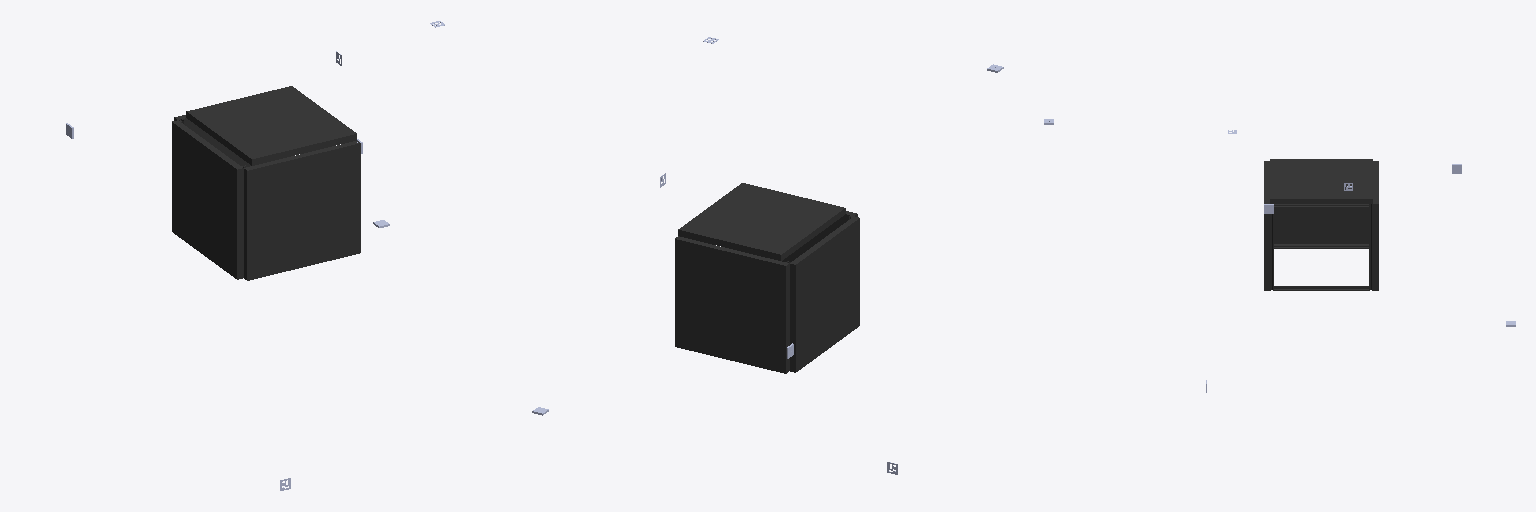
The robot description file, URDF, robot "docking_station":
<?xml version="1.0" encoding="utf-8"?>
<!-- This URDF was automatically created by SolidWorks to URDF Exporter! Originally created by [author] ([email redacted]) 
     Commit Version: 1.5.1-0-g916b5db  Build Version: 1.5.7152.31018
     For more information, please see http://wiki.ros.org/sw_urdf_exporter -->
<robot
  name="docking_station">
  <link
    name="base_link">
    <inertial>
      <origin
        xyz="-0.0662482989445942 -2.1538326677728E-14 0.316247385092928"
        rpy="0 0 0" />
      <mass
        value="42.0427517120607" />
      <inertia
        ixx="1.16820349201206"
        ixy="1.60891011987078E-14"
        ixz="-9.97046817820056E-15"
        iyy="1.38638221782354"
        iyz="-1.95937203163287E-15"
        izz="1.23918268038501" />
    </inertial>
    <visual>
      <origin
        xyz="0 0 0"
        rpy="0 0 0" />
      <geometry>
        <mesh
          filename="package://docking_station/meshes/base_link.STL" />
      </geometry>
      <material
        name="">
        <color
          rgba="0.250980392156863 0.250980392156863 0.250980392156863 1" />
      </material>
    </visual>
    <collision>
      <origin
        xyz="0 0 0"
        rpy="0 0 0" />
      <geometry>
        <mesh
          filename="package://docking_station/meshes/base_link.STL" />
      </geometry>
    </collision>
  </link>
  <link
    name="aruco_link_1">
    <inertial>
      <origin
        xyz="-0.0249999999999956 0.00450876489028063 0.0250000000000178"
        rpy="0 0 0" />
      <mass
        value="0.0224018252295753" />
      <inertia
        ixx="4.8386226510856E-06"
        ixy="-1.02520572049127E-20"
        ixz="-2.08851713726378E-21"
        iyy="9.37469320384243E-06"
        iyz="-7.06176572731722E-20"
        izz="4.83862265108562E-06" />
    </inertial>
    <visual>
      <origin
        xyz="0 0 0"
        rpy="0 0 0" />
      <geometry>
        <mesh
          filename="package://docking_station/meshes/aruco_link_1.STL" />
      </geometry>
      <material
        name="">
        <color
          rgba="0.792156862745098 0.819607843137255 0.933333333333333 1" />
      </material>
    </visual>
    <collision>
      <origin
        xyz="0 0 0"
        rpy="0 0 0" />
      <geometry>
        <mesh
          filename="package://docking_station/meshes/aruco_link_1.STL" />
      </geometry>
    </collision>
  </link>
  <joint
    name="aruco_joint_1"
    type="fixed">
    <origin
      xyz="0.27 -0.2505 0.45"
      rpy="1.5708 1.5708 0" />
    <parent
      link="base_link" />
    <child
      link="aruco_link_1" />
    <axis
      xyz="0 0 0" />
  </joint>
  <link
    name="aruco_child_link_1">
    <inertial>
      <origin
        xyz="−0.069 0.00450876489028063 0.0250000000000178"
        rpy="0 0 0" />
      <mass
        value="0.00197270562183948" />
      <inertia
        ixx="4.704387715955E-07"
        ixy="6.97071784979191E-21"
        ixz="-1.63089057186932E-08"
        iyy="9.16307642939266E-07"
        iyz="1.28429976701927E-21"
        izz="4.46197655614073E-07" />
    </inertial>
    <visual>
      <origin
        xyz="0 0 0"
        rpy="0 0 0" />
      <geometry>
        <mesh
          filename="package://docking_station/meshes/aruco_child_link_1.STL" />
      </geometry>
      <material
        name="">
        <color
          rgba="0.792156862745098 0.819607843137255 0.933333333333333 1" />
      </material>
    </visual>
    <collision>
      <origin
        xyz="0 0 0"
        rpy="0 0 0" />
      <geometry>
        <mesh
          filename="package://docking_station/meshes/aruco_child_link_1.STL" />
      </geometry>
    </collision>
  </link>
  <joint
    name="aruco_child_joint_1"
    type="fixed">
    <origin
      xyz="-0.025 0 0.025"
      rpy="0 -1.5708 0" />
    <parent
      link="aruco_link_1" />
    <child
      link="aruco_child_link_1" />
    <axis
      xyz="0 0 0" />
  </joint>
  <link
    name="aruco_link_2">
    <inertial>
      <origin
        xyz="-0.0250000000000042 0.00450876489026827 -0.0249999999999847"
        rpy="0 0 0" />
      <mass
        value="0.0224018252295753" />
      <inertia
        ixx="4.83862265108561E-06"
        ixy="-1.0107356355921E-20"
        ixz="3.32562002140032E-22"
        iyy="9.37469320384244E-06"
        iyz="7.05471563513824E-20"
        izz="4.83862265108562E-06" />
    </inertial>
    <visual>
      <origin
        xyz="0 0 0"
        rpy="0 0 0" />
      <geometry>
        <mesh
          filename="package://docking_station/meshes/aruco_link_2.STL" />
      </geometry>
      <material
        name="">
        <color
          rgba="0.792156862745098 0.819607843137255 0.933333333333333 1" />
      </material>
    </visual>
    <collision>
      <origin
        xyz="0 0 0"
        rpy="0 0 0" />
      <geometry>
        <mesh
          filename="package://docking_station/meshes/aruco_link_2.STL" />
      </geometry>
    </collision>
  </link>
  <joint
    name="aruco_joint_2"
    type="fixed">
    <origin
      xyz="0.27 0.2505 0.45"
      rpy="1.5708 1.5708 0" />
    <parent
      link="base_link" />
    <child
      link="aruco_link_2" />
    <axis
      xyz="0 0 0" />
  </joint>
  <link
    name="aruco_child_link_2">
    <inertial>
      <origin
        xyz="-0.000278731373129198 -0.00950000000004067 1.62549688293989E-05"
        rpy="0 0 0" />
      <mass
        value="0.00197270562183948" />
      <inertia
        ixx="4.70438771595498E-07"
        ixy="-5.86722248136008E-21"
        ixz="-1.63089057186943E-08"
        iyy="9.16307642939267E-07"
        iyz="3.0016255749312E-20"
        izz="4.46197655614075E-07" />
    </inertial>
    <visual>
      <origin
        xyz="0 0 0"
        rpy="0 0 0" />
      <geometry>
        <mesh
          filename="package://docking_station/meshes/aruco_child_link_2.STL" />
      </geometry>
      <material
        name="">
        <color
          rgba="0.792156862745098 0.819607843137255 0.933333333333333 1" />
      </material>
    </visual>
    <collision>
      <origin
        xyz="0 0 0"
        rpy="0 0 0" />
      <geometry>
        <mesh
          filename="package://docking_station/meshes/aruco_child_link_2.STL" />
      </geometry>
    </collision>
  </link>
  <joint
    name="aruco_child_joint_1"
    type="fixed">
    <origin
      xyz="-0.025 0.019 -0.025"
      rpy="0 1.5708 0" />
    <parent
      link="aruco_link_2" />
    <child
      link="aruco_child_link_2" />
    <axis
      xyz="0 0 0" />
  </joint>
  <link
    name="aruco_link_3">
    <inertial>
      <origin
        xyz="0.0250000000000017 0.00450876489026816 -0.024999999999987"
        rpy="0 0 0" />
      <mass
        value="0.0224018252295754" />
      <inertia
        ixx="4.83862265108561E-06"
        ixy="2.35103530730933E-21"
        ixz="4.18902260497304E-22"
        iyy="9.37469320384244E-06"
        iyz="2.01390055538253E-20"
        izz="4.83862265108562E-06" />
    </inertial>
    <visual>
      <origin
        xyz="0 0 0"
        rpy="0 0 0" />
      <geometry>
        <mesh
          filename="package://docking_station/meshes/aruco_link_3.STL" />
      </geometry>
      <material
        name="">
        <color
          rgba="0.792156862745098 0.819607843137255 0.933333333333333 1" />
      </material>
    </visual>
    <collision>
      <origin
        xyz="0 0 0"
        rpy="0 0 0" />
      <geometry>
        <mesh
          filename="package://docking_station/meshes/aruco_link_3.STL" />
      </geometry>
    </collision>
  </link>
  <joint
    name="aruco_joint_3"
    type="fixed">
    <origin
      xyz="0.27 -0.2505 0"
      rpy="1.5708 -1.5708 0" />
    <parent
      link="base_link" />
    <child
      link="aruco_link_3" />
    <axis
      xyz="0 0 0" />
  </joint>
  <link
    name="aruco_child_link_3">
    <inertial>
      <origin
        xyz="-0.000278731442023394 0.00949999999798451 -1.62549651961663E-05"
        rpy="0 0 0" />
      <mass
        value="0.00197270562183948" />
      <inertia
        ixx="4.70438772020475E-07"
        ixy="-3.22414238087603E-15"
        ixz="1.63089054028558E-08"
        iyy="9.16307642939263E-07"
        iyz="1.17934969875605E-16"
        izz="4.46197655189094E-07" />
    </inertial>
    <visual>
      <origin
        xyz="0 0 0"
        rpy="0 0 0" />
      <geometry>
        <mesh
          filename="package://docking_station/meshes/aruco_child_link_3.STL" />
      </geometry>
      <material
        name="">
        <color
          rgba="0.792156862745098 0.819607843137255 0.933333333333333 1" />
      </material>
    </visual>
    <collision>
      <origin
        xyz="0 0 0"
        rpy="0 0 0" />
      <geometry>
        <mesh
          filename="package://docking_station/meshes/aruco_child_link_3.STL" />
      </geometry>
    </collision>
  </link>
  <joint
    name="aruco_child_joint_3"
    type="fixed">
    <origin
      xyz="0.025 0.019 -0.025"
      rpy="-0.50668 1.5708 2.6349" />
    <parent
      link="aruco_link_3" />
    <child
      link="aruco_child_link_3" />
    <axis
      xyz="0 0 0" />
  </joint>
  <link
    name="aruco_link_4">
    <inertial>
      <origin
        xyz="0.0249999999999951 0.00450876489026805 0.024999999999988"
        rpy="0 0 0" />
      <mass
        value="0.0224018252295753" />
      <inertia
        ixx="4.83862265108561E-06"
        ixy="2.51385604817362E-21"
        ixz="6.45873989664963E-22"
        iyy="9.37469320384243E-06"
        iyz="4.98499813389311E-21"
        izz="4.83862265108561E-06" />
    </inertial>
    <visual>
      <origin
        xyz="0 0 0"
        rpy="0 0 0" />
      <geometry>
        <mesh
          filename="package://docking_station/meshes/aruco_link_4.STL" />
      </geometry>
      <material
        name="">
        <color
          rgba="0.792156862745098 0.819607843137255 0.933333333333333 1" />
      </material>
    </visual>
    <collision>
      <origin
        xyz="0 0 0"
        rpy="0 0 0" />
      <geometry>
        <mesh
          filename="package://docking_station/meshes/aruco_link_4.STL" />
      </geometry>
    </collision>
  </link>
  <joint
    name="aruco_joint_4"
    type="fixed">
    <origin
      xyz="0.27 0.2505 0"
      rpy="1.5708 -1.5708 0" />
    <parent
      link="base_link" />
    <child
      link="aruco_link_4" />
    <axis
      xyz="1 0 0" />
  </joint>
  <link
    name="aruco_child_link_4">
    <inertial>
      <origin
        xyz="-0.000278731373129504 0.00949999999995935 -1.62549688255686E-05"
        rpy="0 0 0" />
      <mass
        value="0.00197270562183948" />
      <inertia
        ixx="4.70438771595497E-07"
        ixy="-6.93003442068363E-21"
        ixz="1.63089057186943E-08"
        iyy="9.16307642939266E-07"
        iyz="-1.96281171903858E-23"
        izz="4.46197655614075E-07" />
    </inertial>
    <visual>
      <origin
        xyz="0 0 0"
        rpy="0 0 0" />
      <geometry>
        <mesh
          filename="package://docking_station/meshes/aruco_child_link_4.STL" />
      </geometry>
      <material
        name="">
        <color
          rgba="0.792156862745098 0.819607843137255 0.933333333333333 1" />
      </material>
    </visual>
    <collision>
      <origin
        xyz="0 0 0"
        rpy="0 0 0" />
      <geometry>
        <mesh
          filename="package://docking_station/meshes/aruco_child_link_4.STL" />
      </geometry>
    </collision>
  </link>
  <joint
    name="aruco_child_joint_4"
    type="fixed">
    <origin
      xyz="0.025 0 0.025"
      rpy="3.1416 -1.5708 0" />
    <parent
      link="aruco_link_4" />
    <child
      link="aruco_child_link_4" />
    <axis
      xyz="0 0 0" />
  </joint>
</robot>

--- Render facts (derived) ---
Views: 3 orthographic renders of the robot side by side, from view 1: azimuth 30°, elevation 25°; view 2: azimuth 150°, elevation 25°; view 3: azimuth 270°, elevation 25°.
Robot: docking_station — 9 links, 8 joints (8 fixed); root link base_link; default pose: every joint at zero.
Links seen in each view (by area): view 1: base_link; view 2: base_link; view 3: base_link.
Link boxes in pixels (left/top/right/bottom): base_link: left=172, top=86, right=360, bottom=280; base_link: left=675, top=183, right=859, bottom=373; base_link: left=1264, top=159, right=1378, bottom=290.
Size in the robot's own frame: 1.09 by 2.47 by 1.87 metres.
9 mesh visuals loaded from 9 distinct referenced files (9 binary STL).